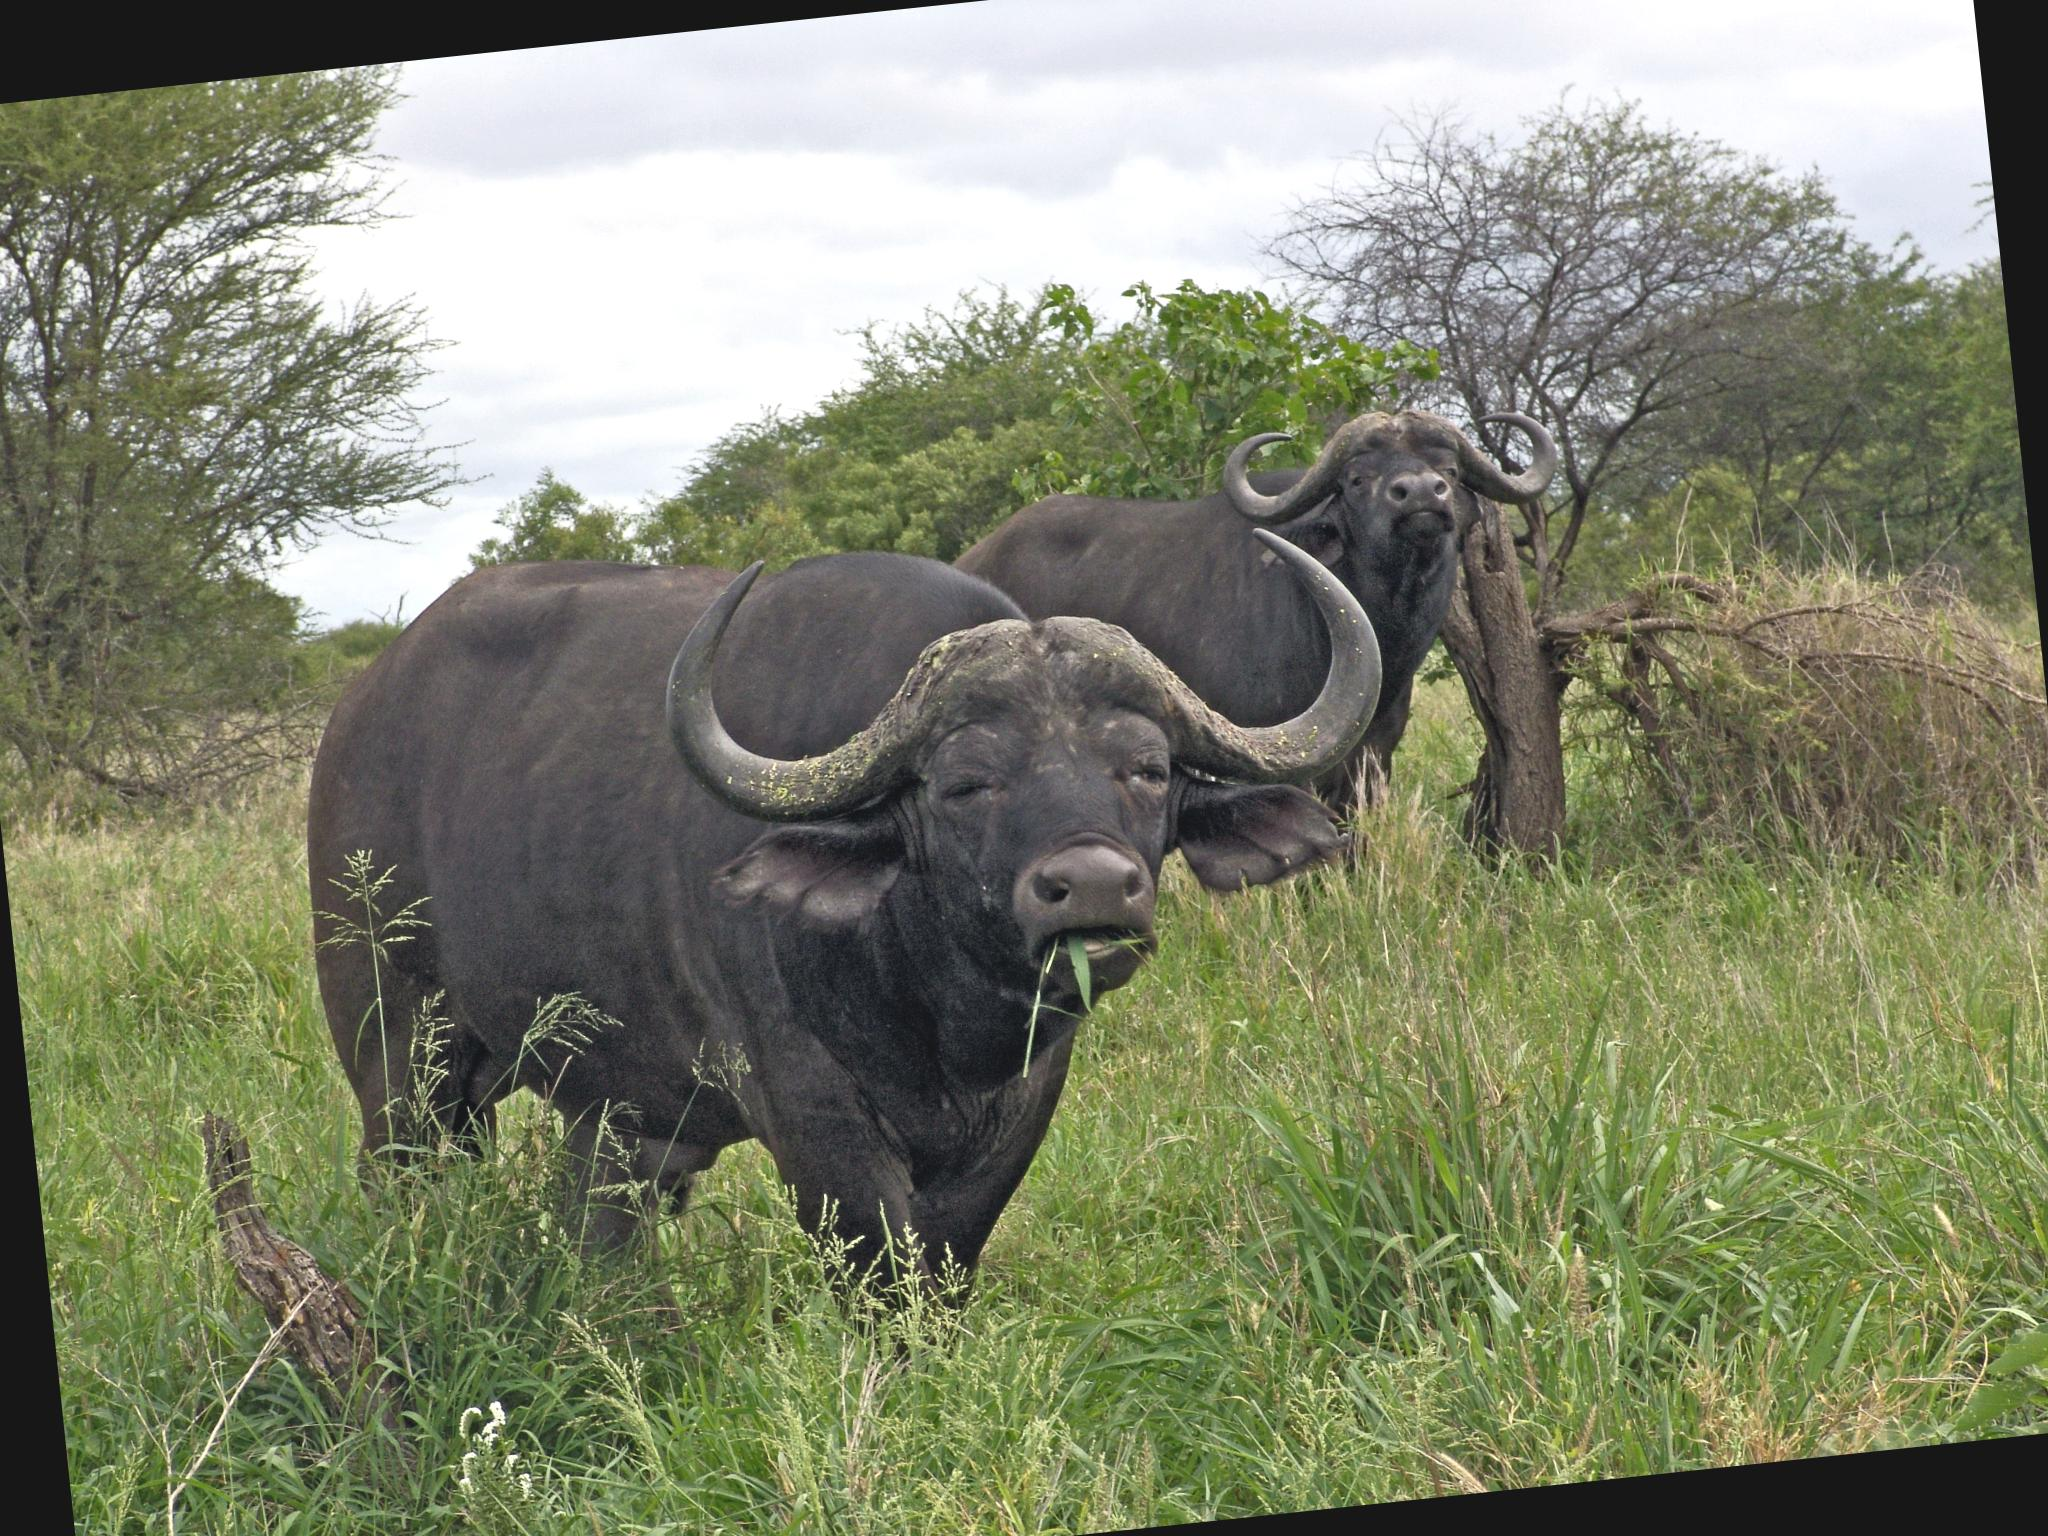Buffalo: (89, 153, 2048, 1536)
